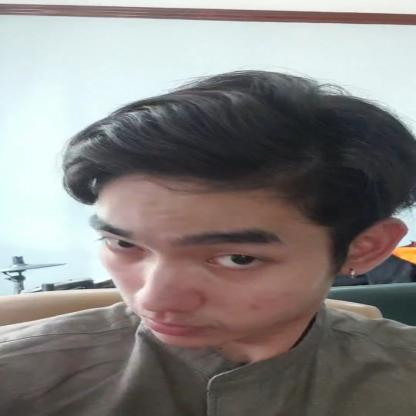Palm: (21, 57, 415, 374)
